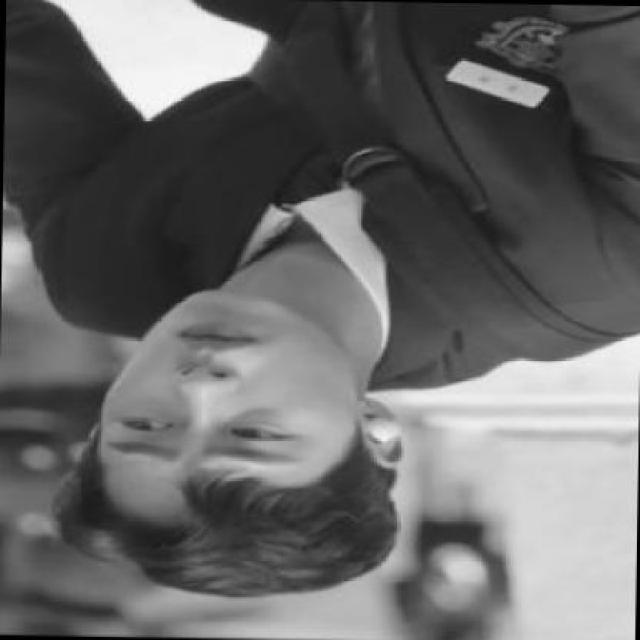earphone: (352, 418, 414, 451)
